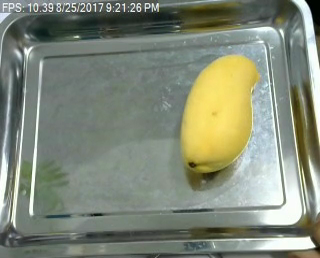Mango: (178, 53, 259, 172)
